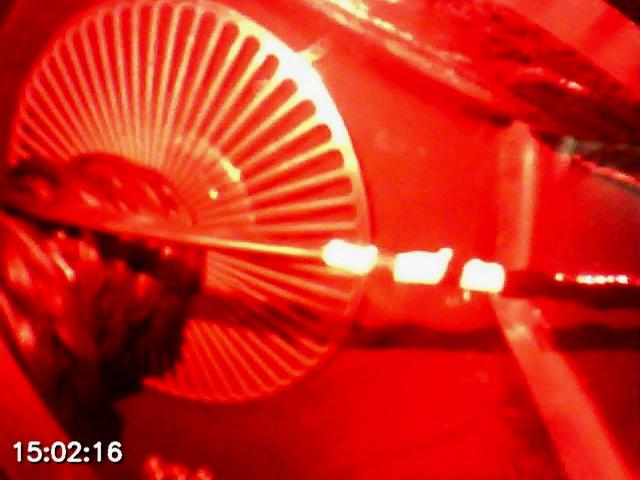white-dots: (321, 238, 506, 295)
